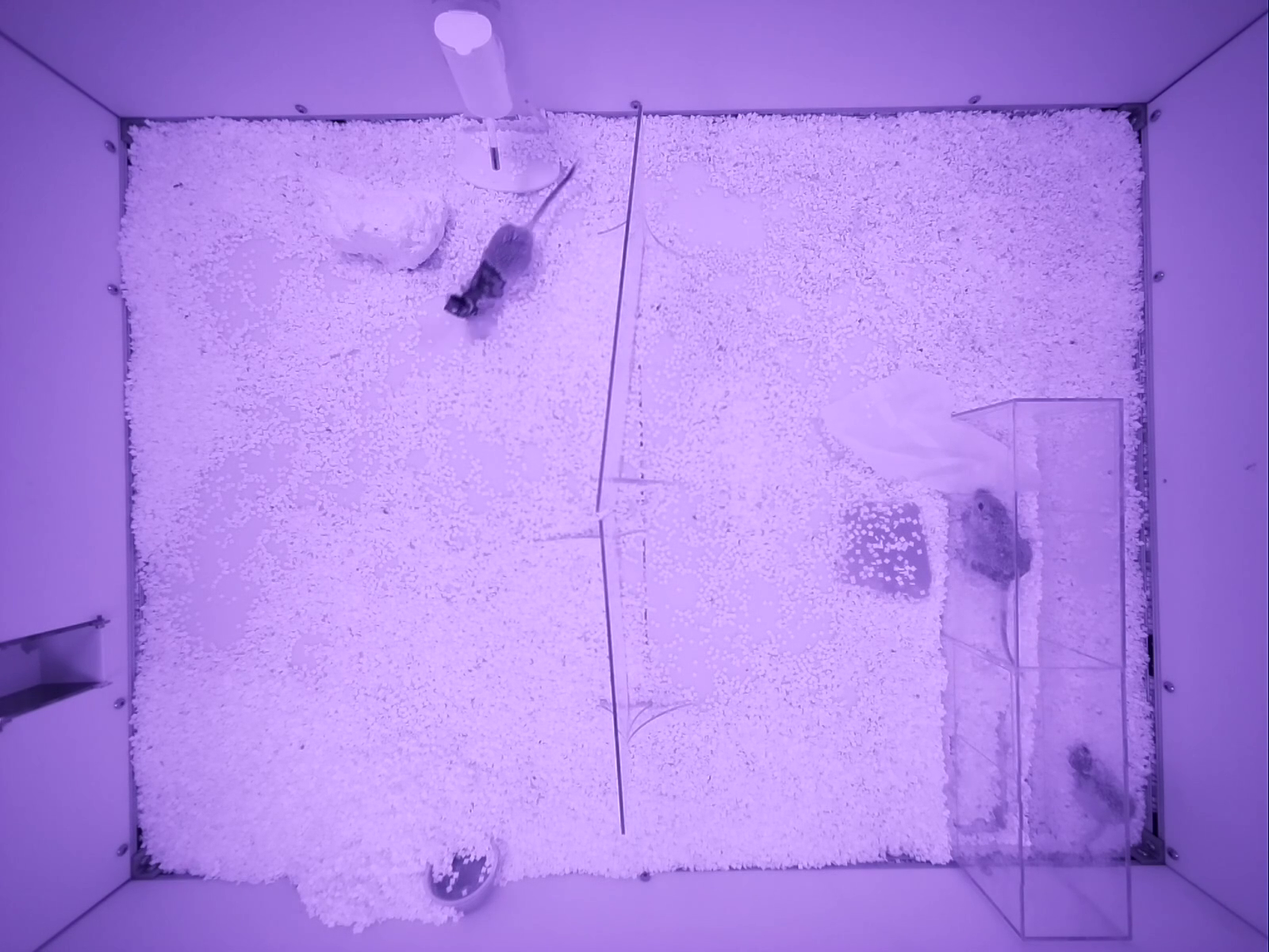adult_back: (445, 163, 576, 317), (960, 489, 1032, 593), (1068, 743, 1135, 853)
